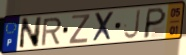J: (122, 8, 142, 41)
N: (18, 15, 43, 50)
P: (141, 6, 168, 40)
R: (40, 16, 63, 47)
X: (91, 11, 115, 44)
Z: (67, 13, 92, 45)
